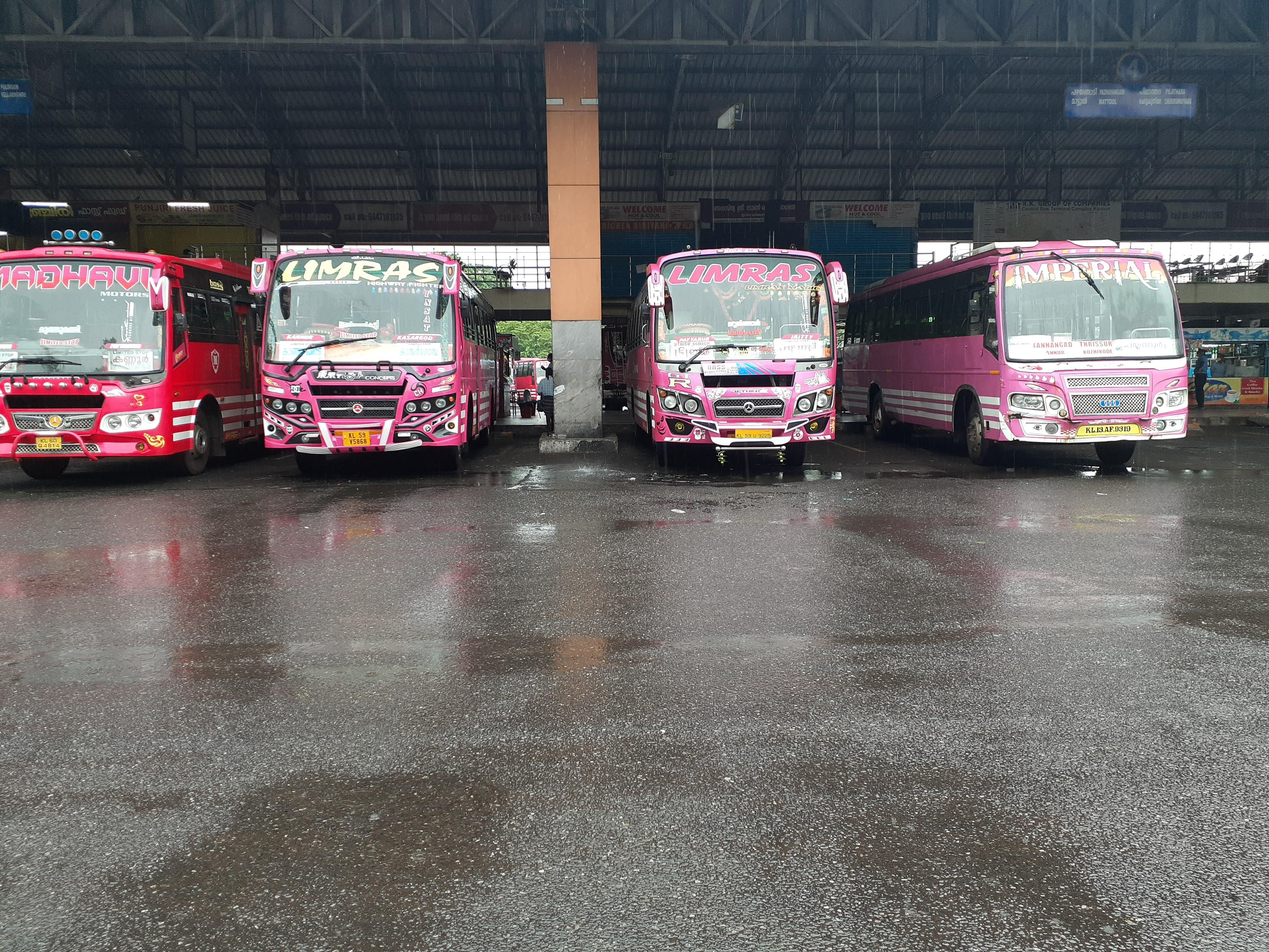Non-emergency: (919, 197, 1241, 522), (231, 185, 526, 522), (0, 178, 217, 517), (608, 232, 873, 488)
